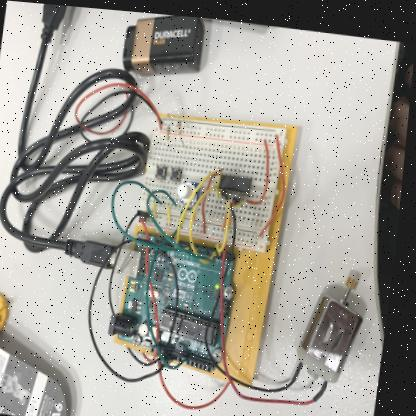5V: (165, 357, 237, 408), (144, 216, 165, 350), (148, 351, 235, 379)
ARDUINO: (123, 228, 244, 366)
Battery: (73, 9, 214, 148)
Breadboard: (141, 112, 289, 248)
Button: (158, 162, 170, 177), (173, 164, 185, 179)
DC Motor: (200, 188, 376, 406)
GND: (94, 241, 174, 380), (114, 236, 185, 365)
H Bridge: (222, 170, 255, 189)
Long wire: (150, 200, 196, 367), (113, 178, 184, 250), (149, 186, 219, 257), (179, 167, 226, 249), (263, 129, 289, 232), (194, 178, 223, 260), (203, 163, 225, 230), (251, 134, 272, 200), (219, 200, 234, 251)
Potentiometer: (181, 180, 196, 196)
Resistor: (168, 121, 173, 138), (179, 116, 184, 132)
Short wire: (170, 201, 175, 220), (226, 207, 231, 225), (156, 198, 160, 217), (233, 211, 237, 227), (187, 207, 192, 218), (197, 208, 199, 224)
